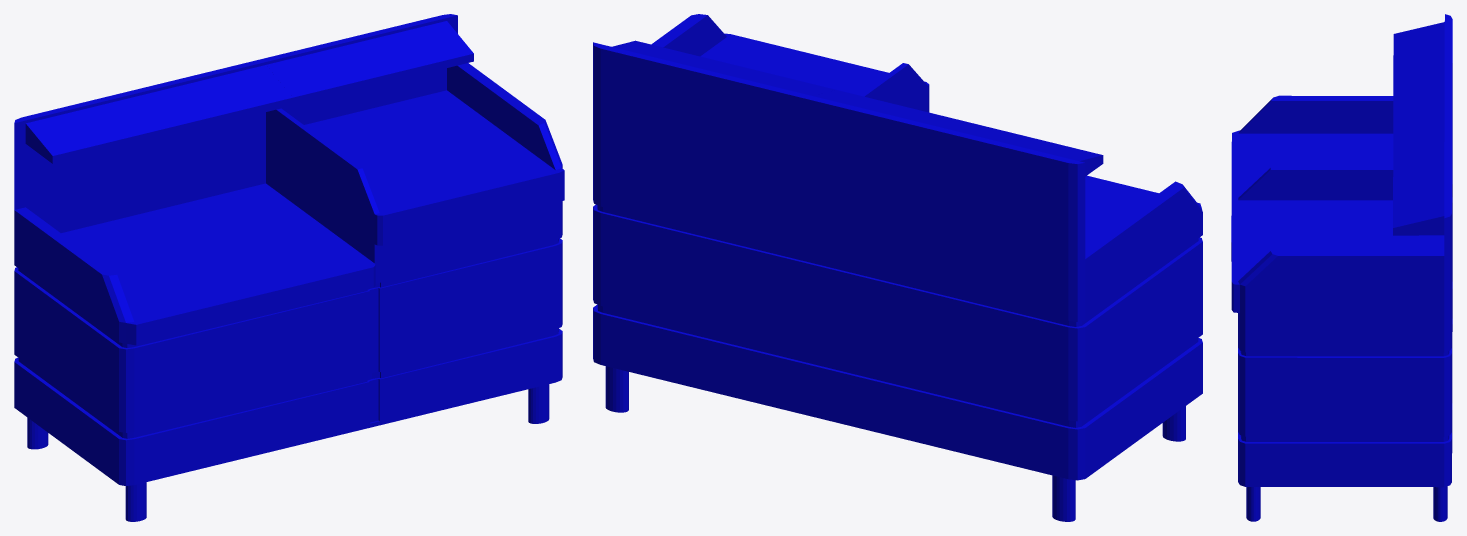
The model's file is ZG_Proxy_Stove.fbx.
3 views of the same model, side by side, from view 1: azimuth 30°, elevation 25°; view 2: azimuth 150°, elevation 25°; view 3: azimuth 270°, elevation 25° (orthographic). The views are drawn at different scales.
Visible parts, largest first — view 1: IndustrialStove; view 2: IndustrialStove; view 3: IndustrialStove.
Boxes of the visible parts, x1=… form: IndustrialStove: x1=14, y1=14, x2=564, y2=521; IndustrialStove: x1=593, y1=14, x2=1202, y2=521; IndustrialStove: x1=1231, y1=14, x2=1452, y2=521.
Size of the model in its own units: 5289 by 3716 by 2418.
